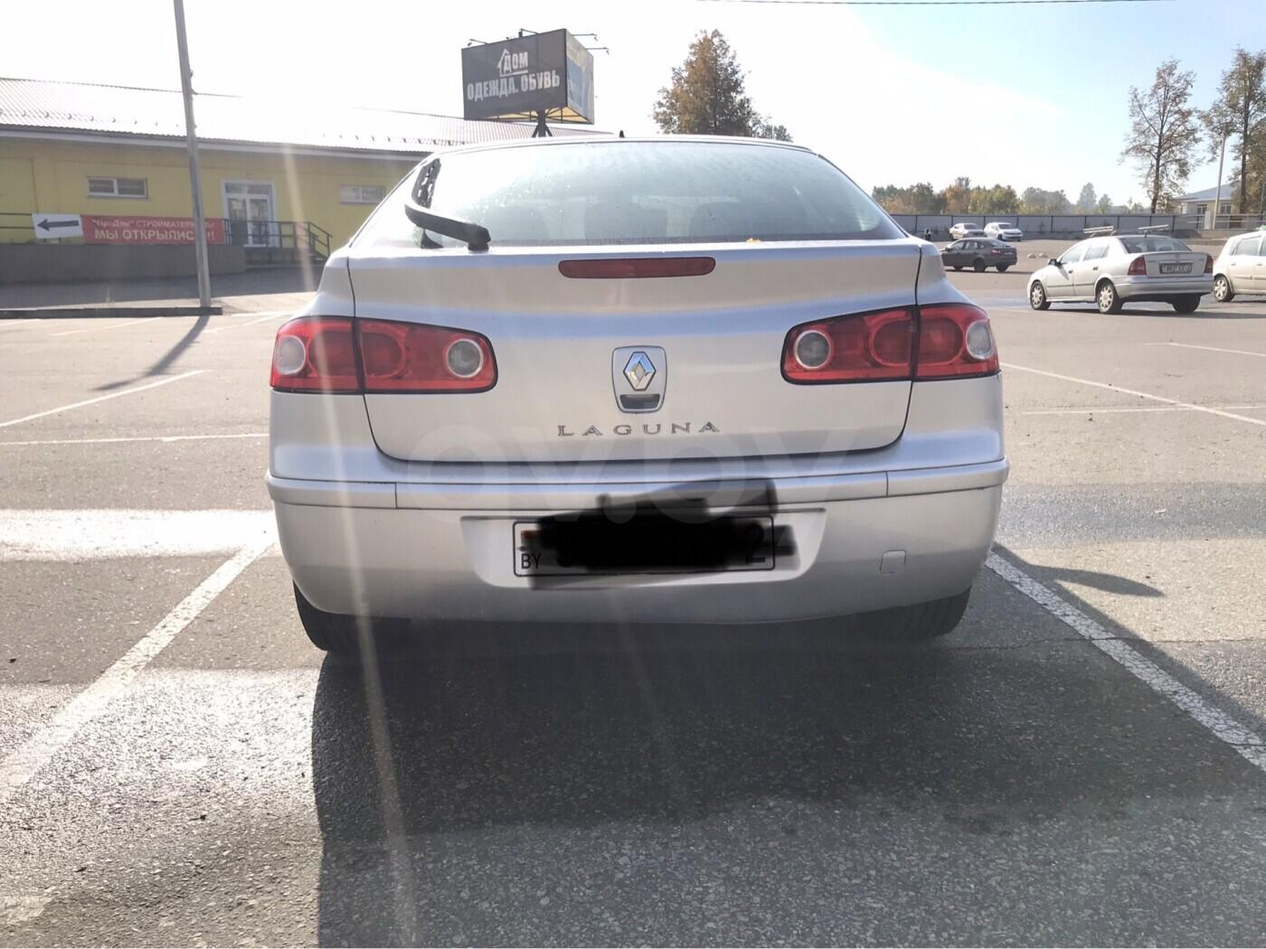Laguna_2005-2007: (260, 129, 1009, 661)
